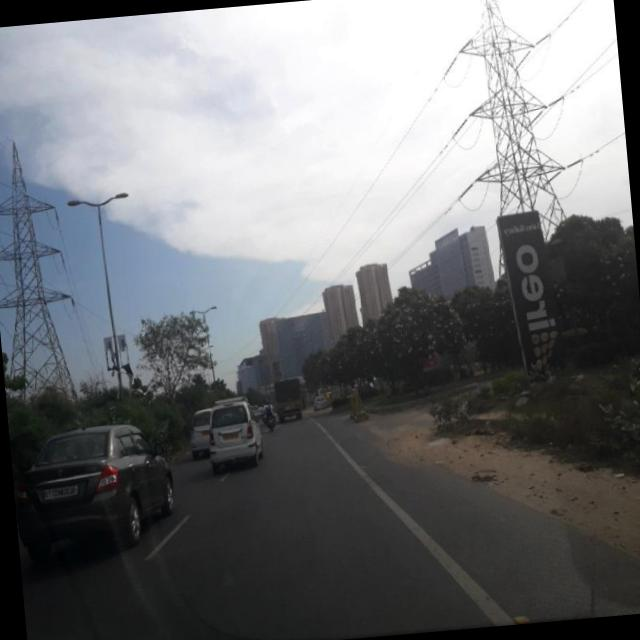crack: (178, 483, 451, 640)
